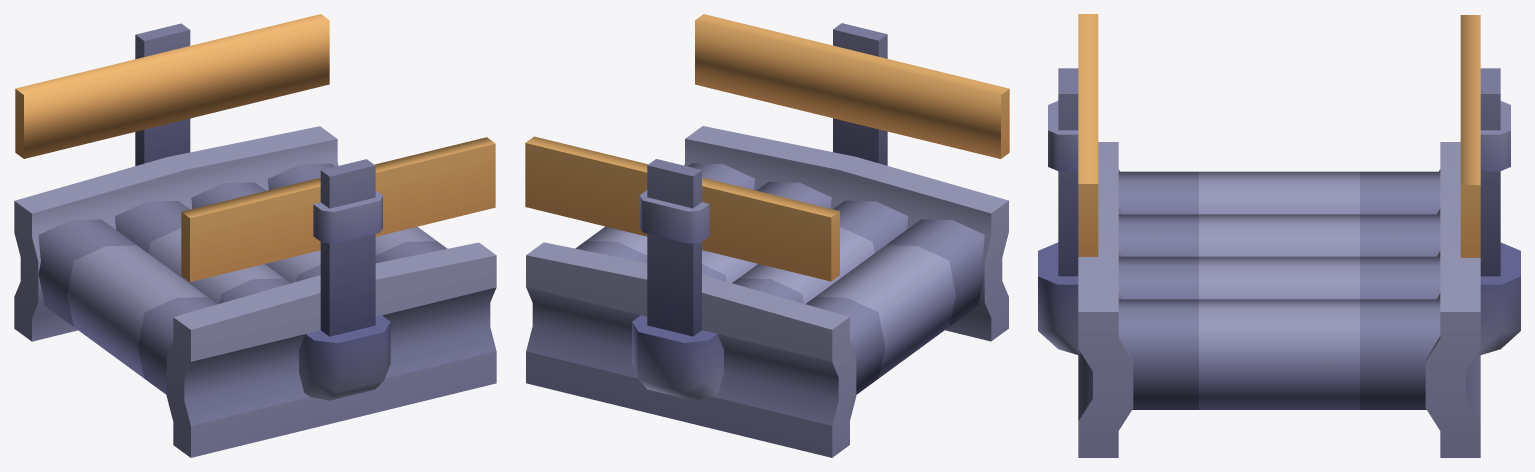
File: kenney-factory-conveyor-bars-stripe-fence.glb
The picture shows the model from 3 angles, left to right: view 1: azimuth 30°, elevation 25°; view 2: azimuth 150°, elevation 25°; view 3: azimuth 270°, elevation 25°; orthographic projection. The views are drawn at different scales.
Parts seen in each view (by area): view 1: conveyor-bars-stripe-fence; view 2: conveyor-bars-stripe-fence; view 3: conveyor-bars-stripe-fence.
Boxes of the visible parts, x1,y1,x2,y2 form: conveyor-bars-stripe-fence: [14, 14, 496, 457]; conveyor-bars-stripe-fence: [525, 14, 1009, 457]; conveyor-bars-stripe-fence: [1038, 14, 1520, 457].
Bounding box in the file's own units: 1.01 × 0.8 × 1.2.
Materials: 1 (1 with a texture image).
